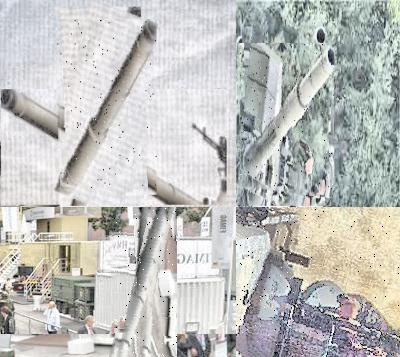tanks: (237, 208, 400, 357), (59, 20, 157, 190), (240, 44, 335, 194), (116, 208, 173, 357), (196, 129, 228, 206)
